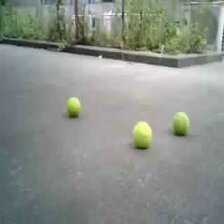tennis: (132, 121, 151, 149), (173, 112, 190, 134), (66, 97, 81, 115)
